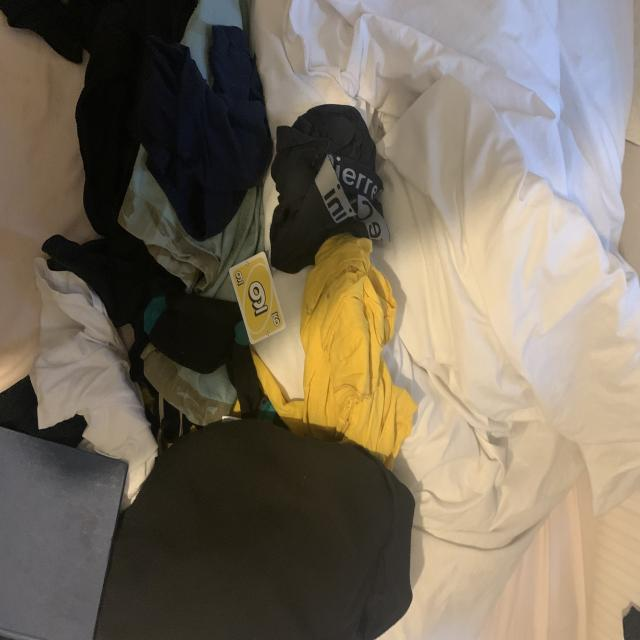lyellow-9: (234, 270, 245, 286)
